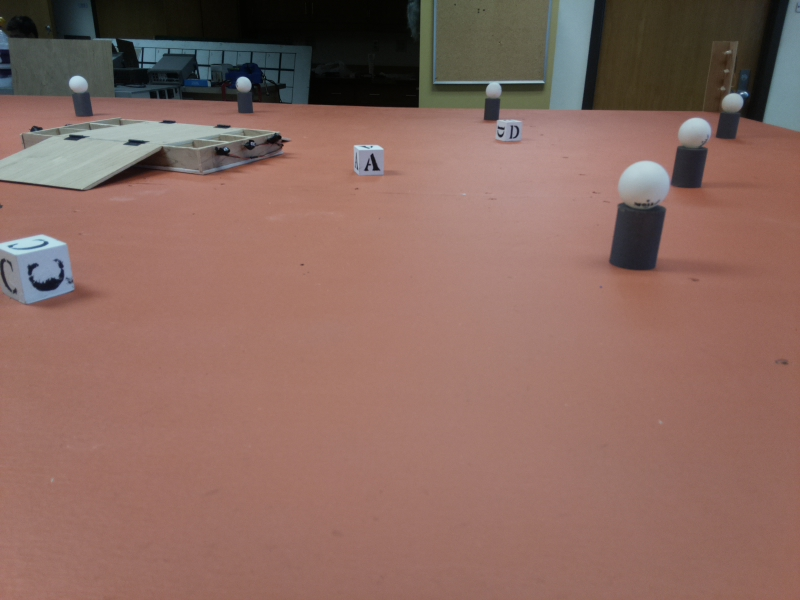blockA: (353, 143, 385, 179)
blockC: (2, 232, 71, 312)
blockD: (497, 120, 523, 143)
corner: (711, 41, 733, 87)
obstacle: (610, 162, 670, 269), (673, 118, 714, 189), (718, 93, 747, 138), (480, 83, 505, 121), (70, 76, 94, 115), (234, 75, 256, 114)
side: (177, 133, 294, 171)
slope: (1, 136, 164, 193)
